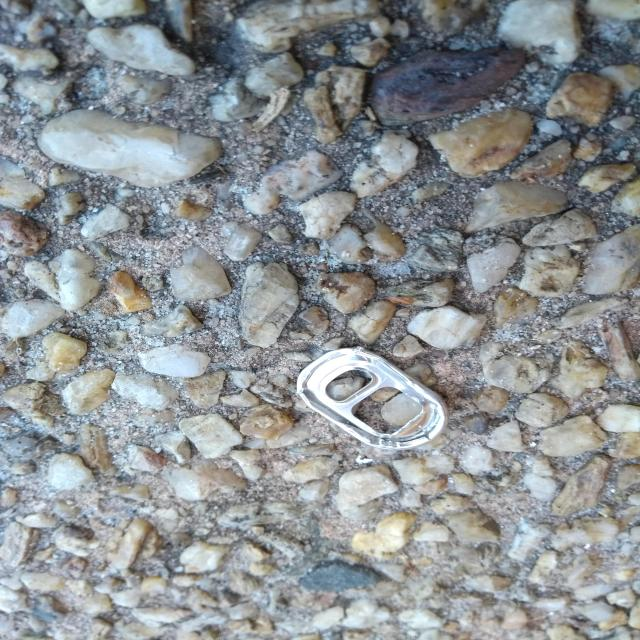Pop tab: (296, 346, 449, 451)
